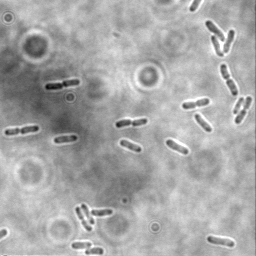Dividing: (219, 61, 240, 97), (233, 95, 253, 126), (44, 77, 82, 92), (74, 205, 94, 232), (3, 125, 42, 137), (180, 97, 212, 111), (114, 118, 149, 129), (223, 28, 237, 55)
Rod: (204, 18, 227, 43), (205, 234, 237, 249), (164, 137, 189, 156), (118, 138, 144, 155), (193, 112, 213, 133), (80, 202, 96, 225), (210, 34, 224, 57), (52, 134, 79, 145), (232, 96, 246, 116), (90, 207, 115, 218), (70, 240, 93, 251), (83, 246, 105, 255)
